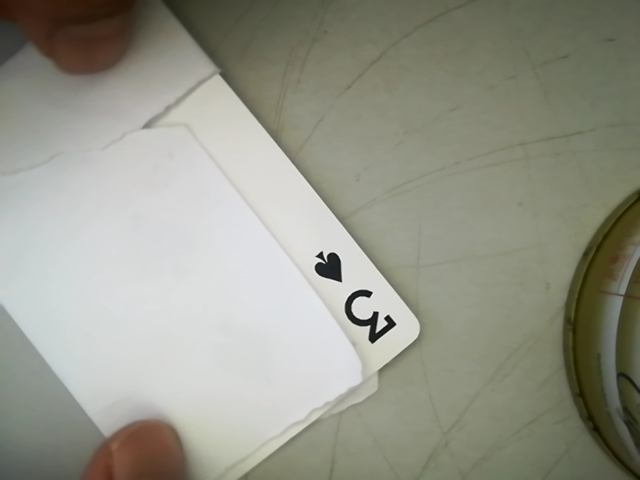ht 3: (307, 246, 405, 354)
